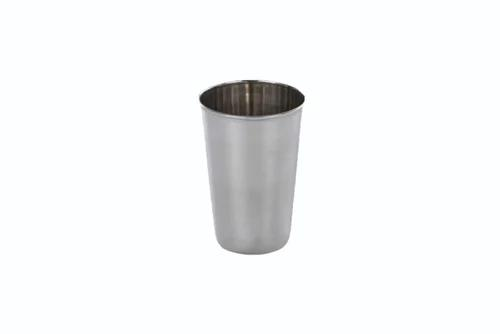glass-tumbler: (195, 75, 310, 254)
